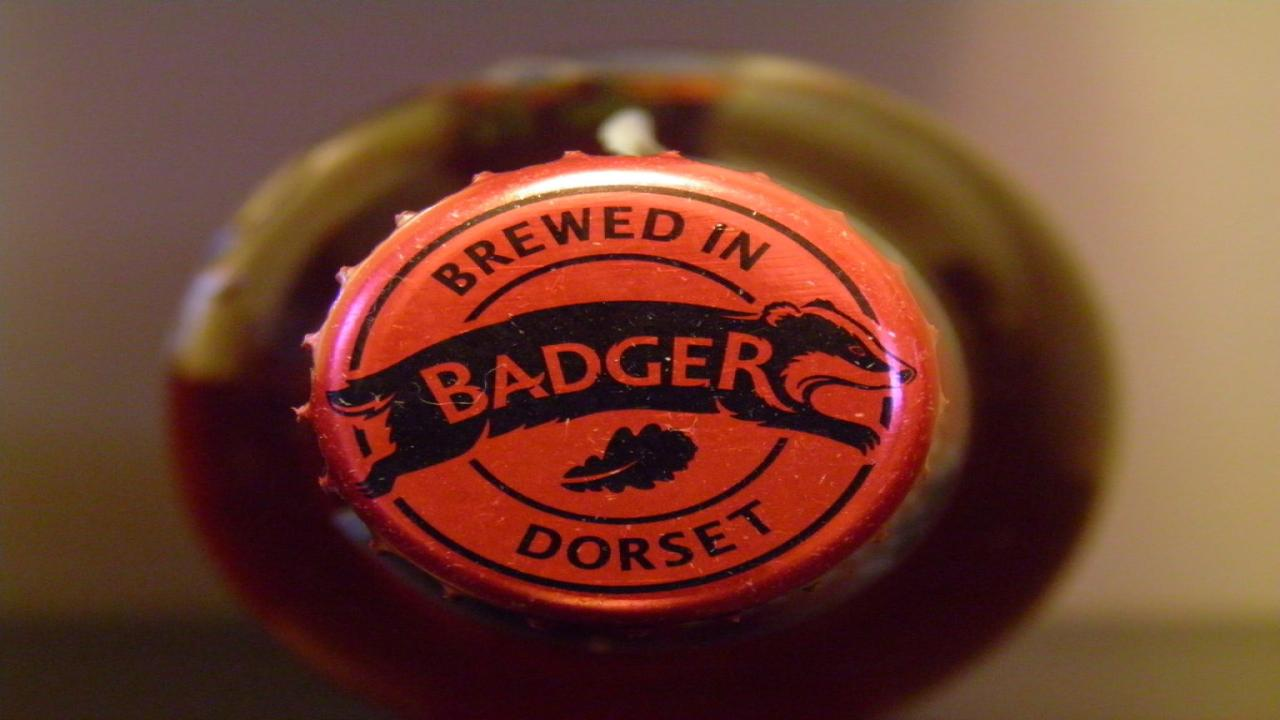bottle_cap: (301, 151, 946, 629)
